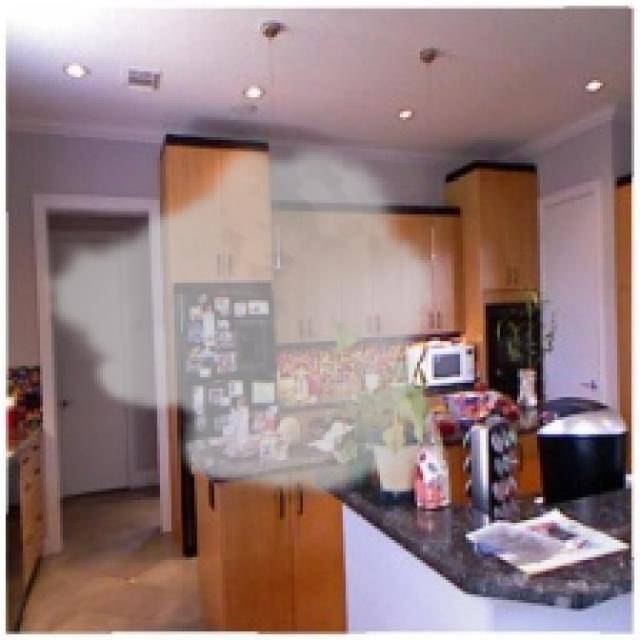Smoke: (34, 134, 440, 500)
